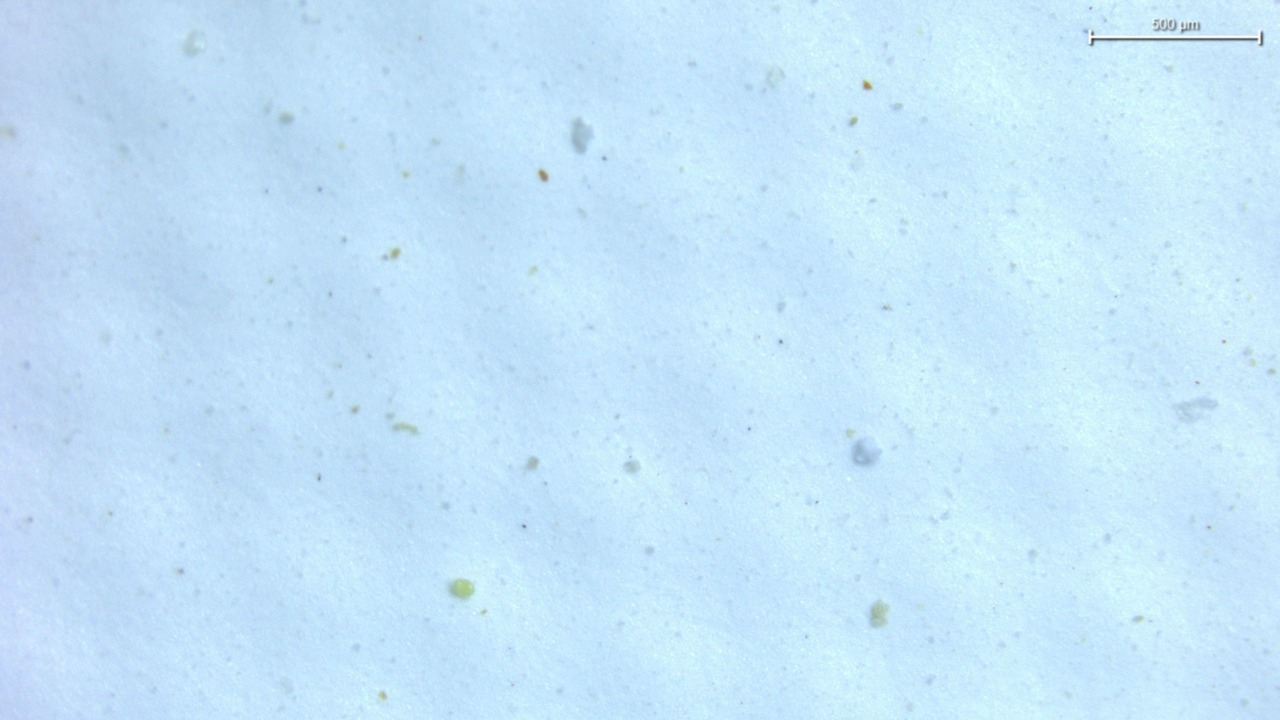microplastic_fragment: (852, 437, 882, 465), (450, 578, 475, 598)
